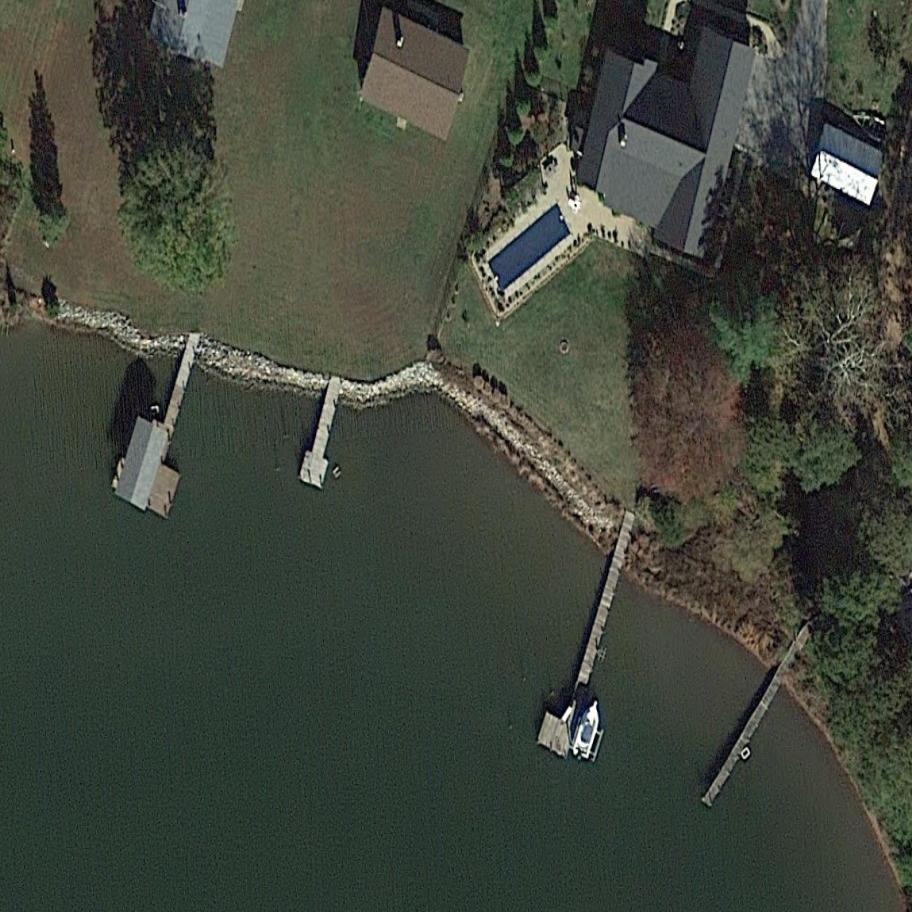ship: (568, 697, 606, 763)
